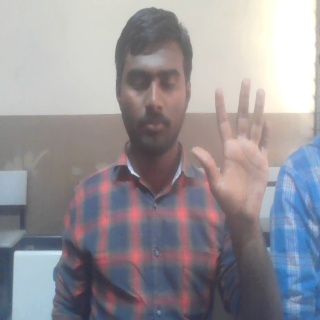Face: (113, 6, 193, 159)
Hello: (192, 77, 272, 222)
